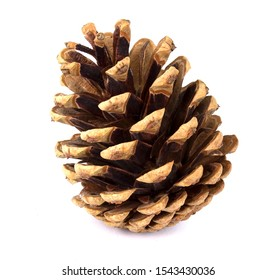Pc: (52, 21, 238, 231)
